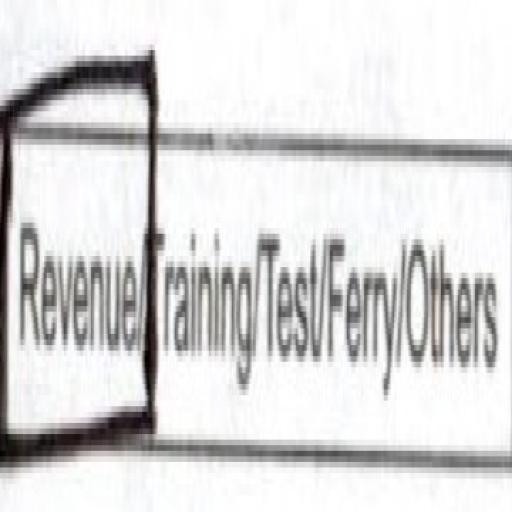check: (0, 5, 149, 512)
